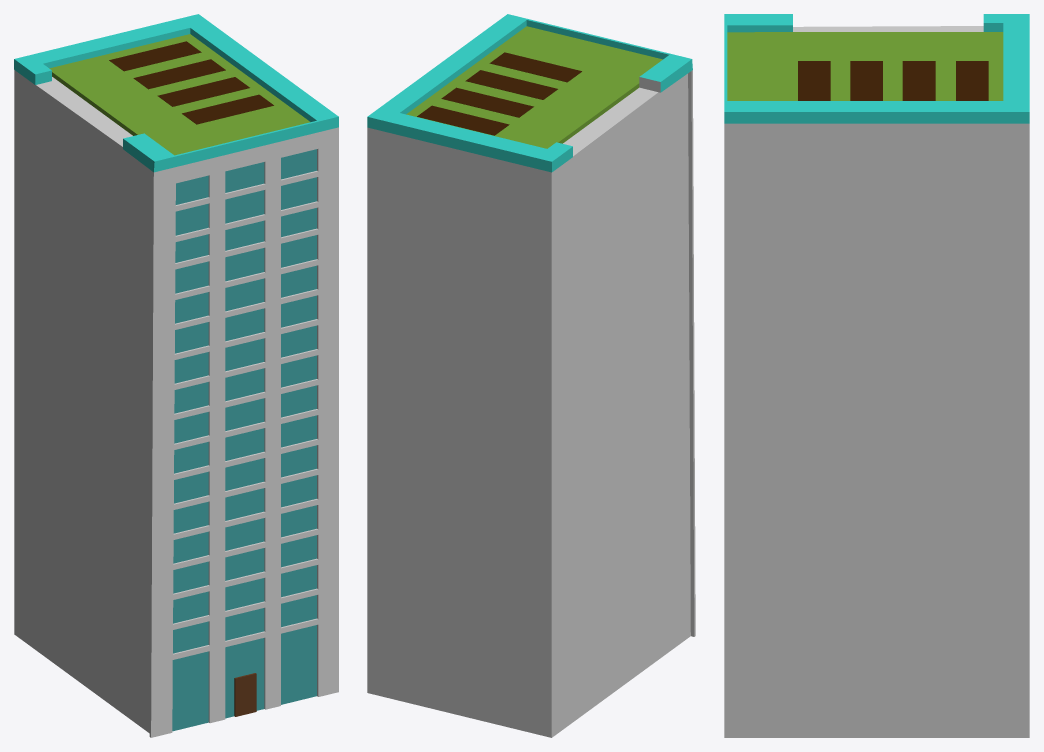
Rendered from BuildingBlock2.fbx.
3 renders of one model, left to right at view 1: azimuth 30°, elevation 25°; view 2: azimuth 150°, elevation 25°; view 3: azimuth 270°, elevation 25°, orthographic. The views are drawn at different scales.
Parts seen in each view (by area): view 1: polySurface297; view 2: polySurface297; view 3: polySurface297.
Part boxes in pixels (box(x1,y1,x2,y2)): polySurface297: box(14, 14, 338, 737); polySurface297: box(367, 14, 695, 737); polySurface297: box(724, 14, 1029, 737).
Bounding box in the file's own units: 5.46 × 16 × 7.07.
